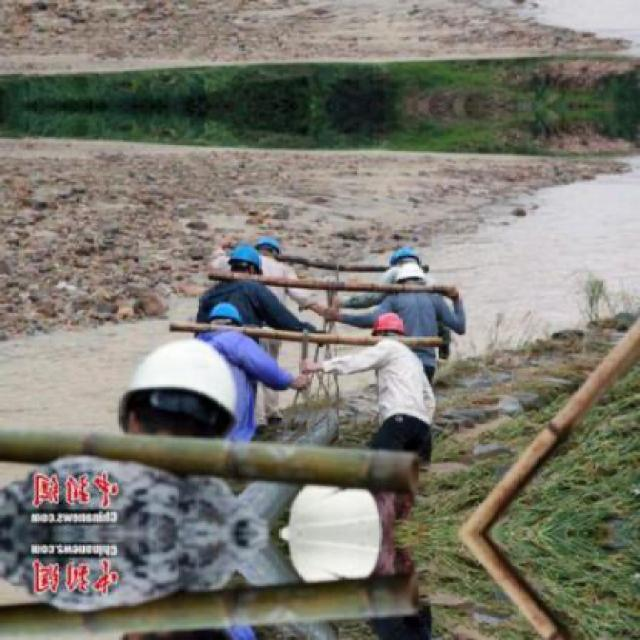helmet: (102, 330, 260, 475), (101, 592, 262, 639), (383, 258, 428, 293), (369, 310, 409, 349), (224, 243, 264, 280), (205, 299, 246, 333), (390, 242, 424, 268), (256, 231, 286, 259)
